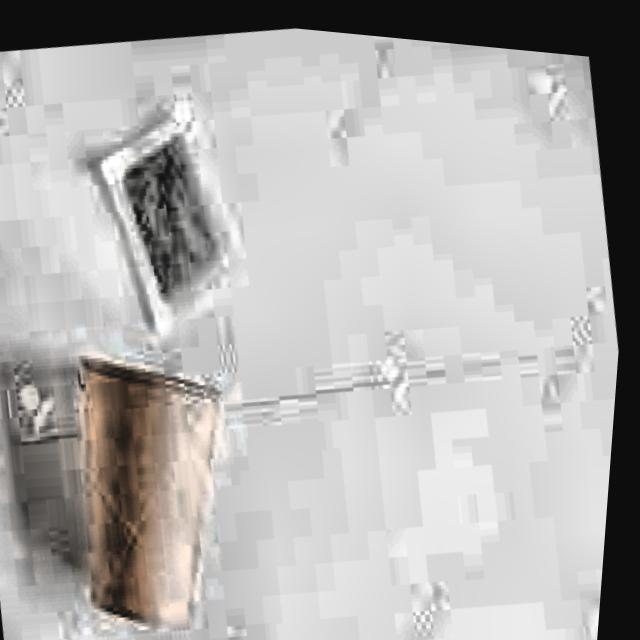Cup: (28, 319, 275, 640)
